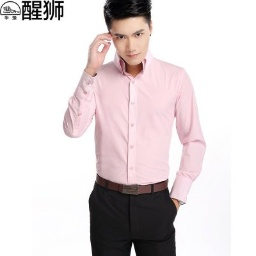face: (101, 1, 155, 66)
